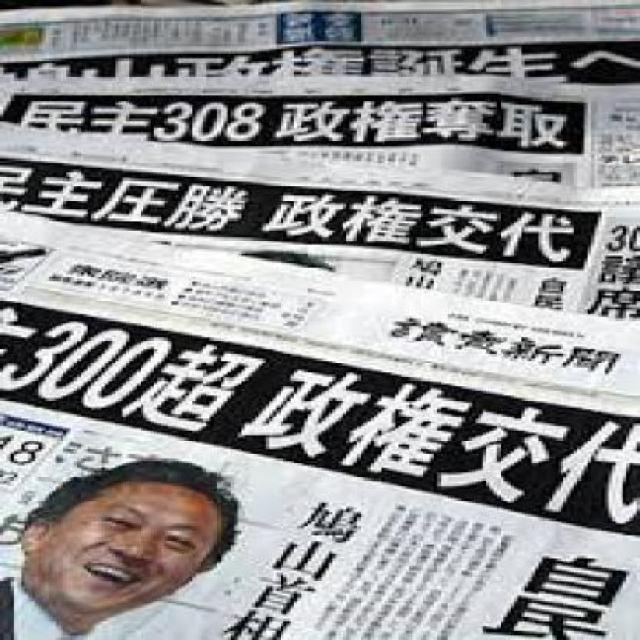PAPER: (0, 210, 637, 638), (0, 121, 637, 316), (0, 75, 637, 202), (0, 7, 637, 84)
